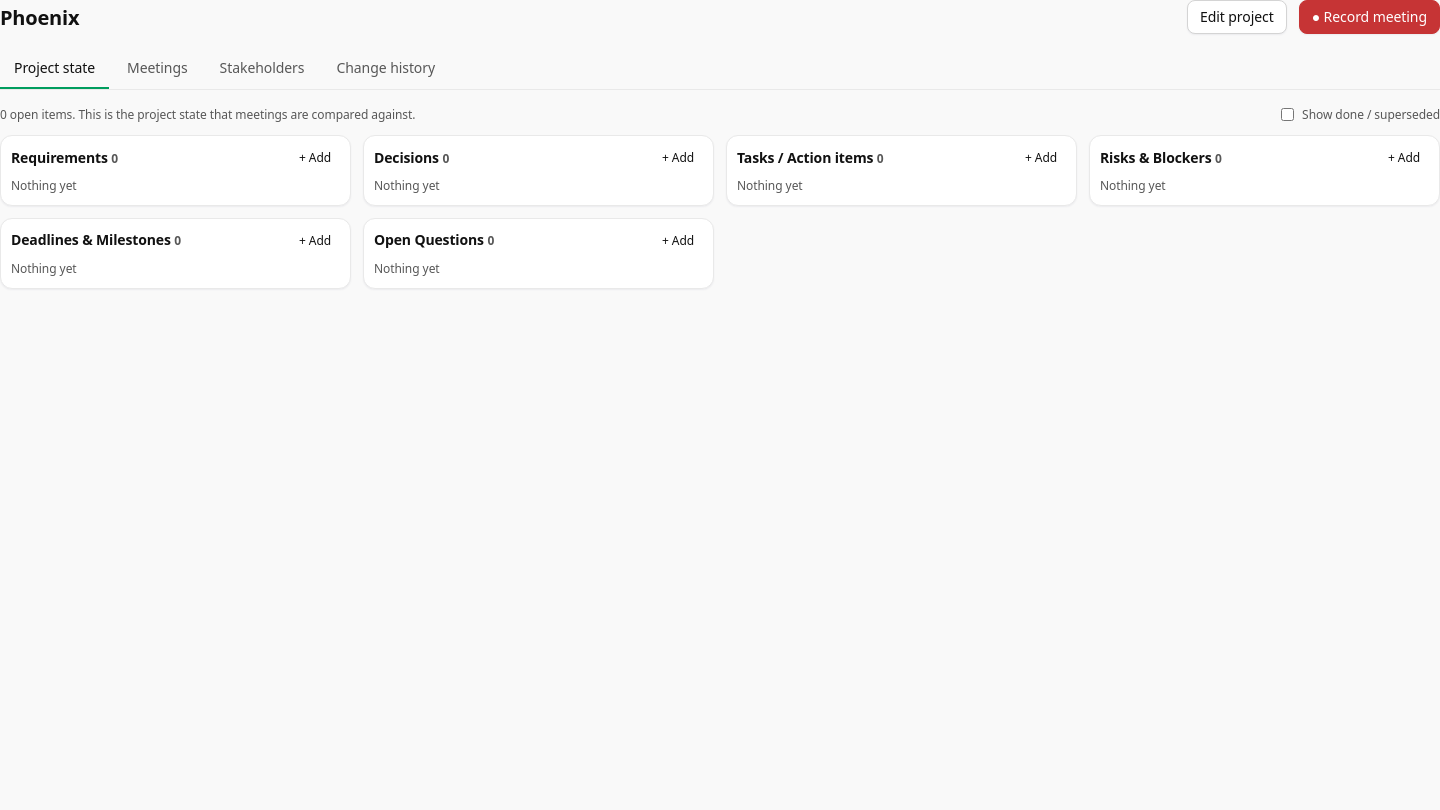
Test case: project page › keeps a pasted transcript when importing it fails
Click the button "Meetings" at (157, 69), box [113,50,202,89]
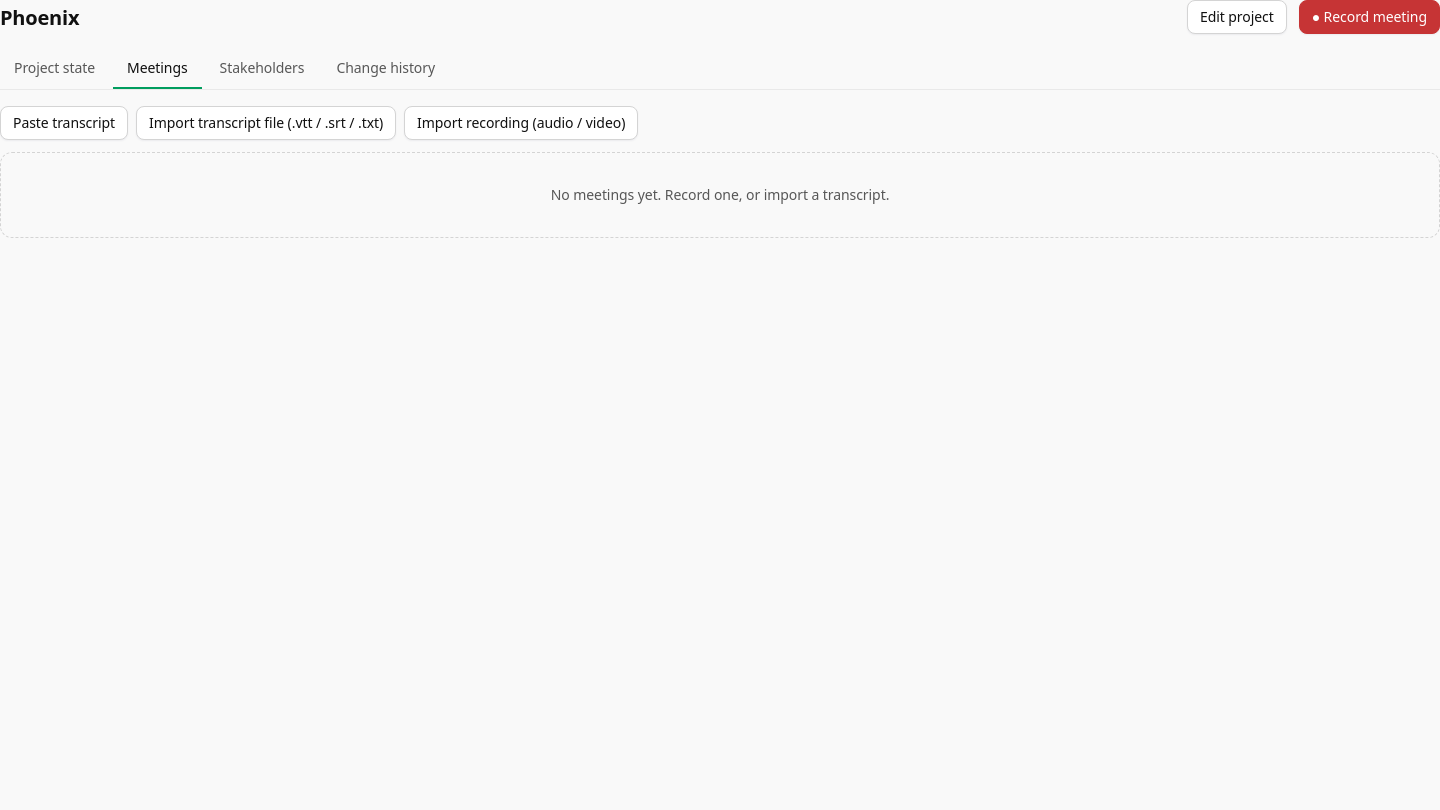
Click the button "Paste transcript" at (64, 123), box [0,106,128,140]
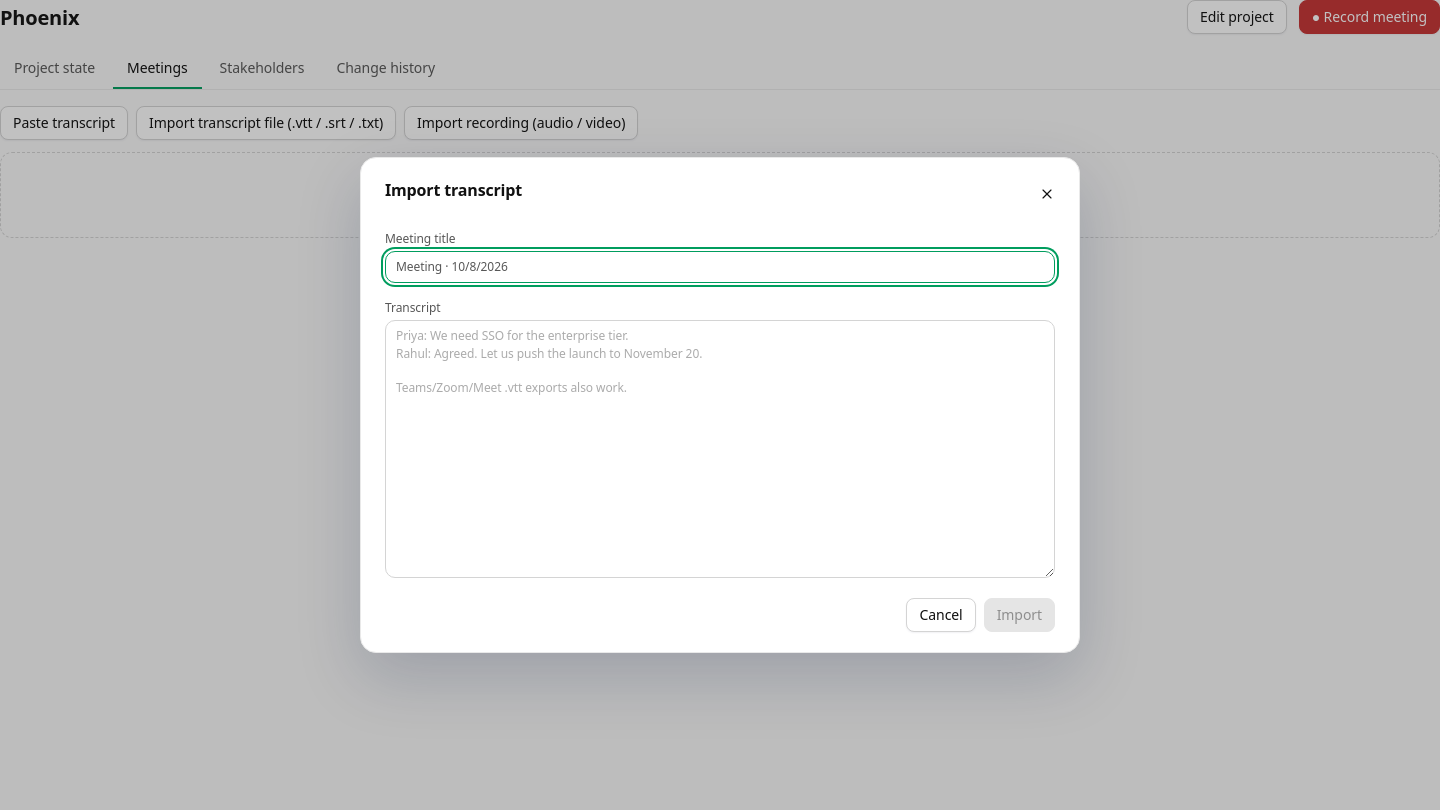
Replace the text in the text box with placeholder "Priya:" with "just some notes" at (720, 449), box [385,320,1055,578]
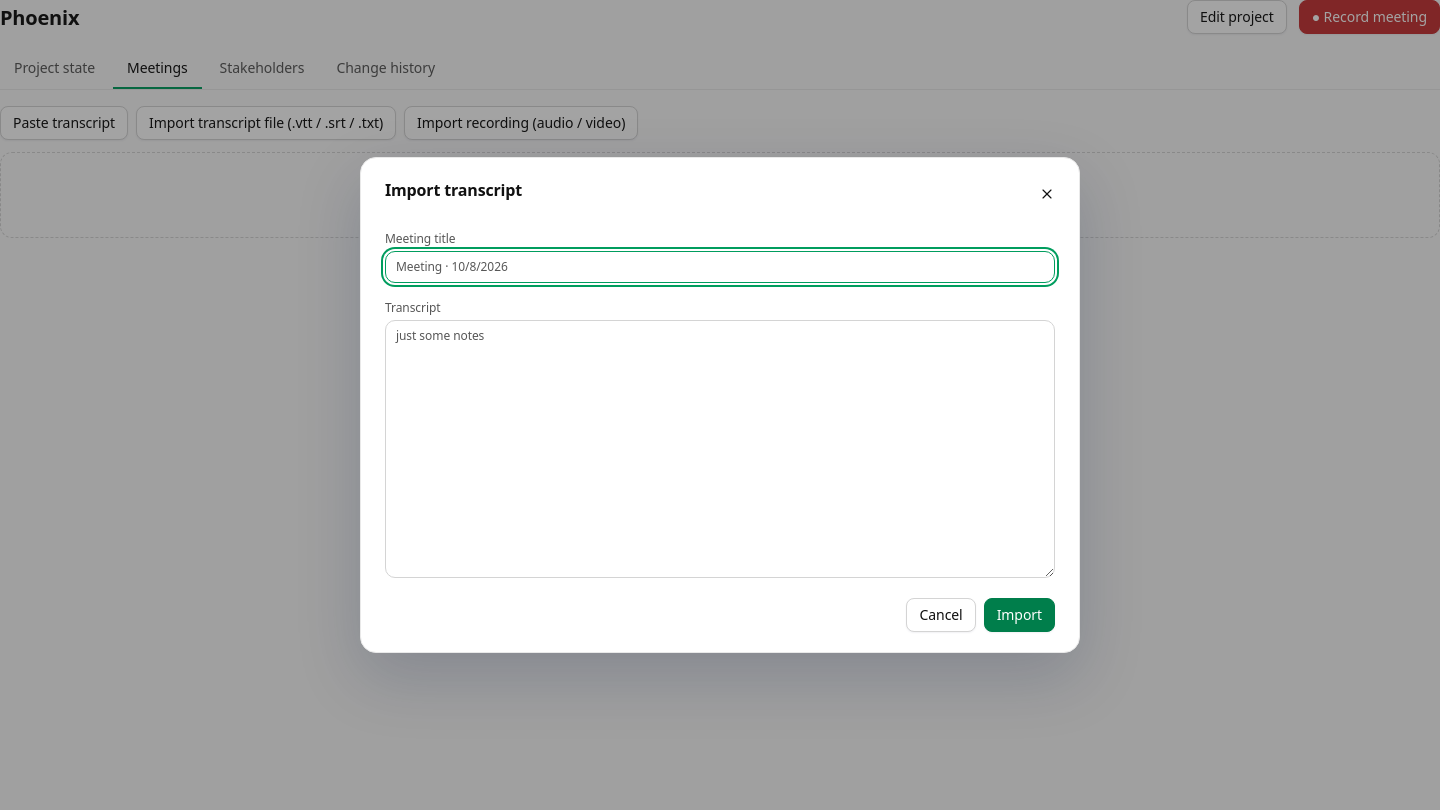
Click the button "Import" at (1019, 615), box [984,598,1055,632]
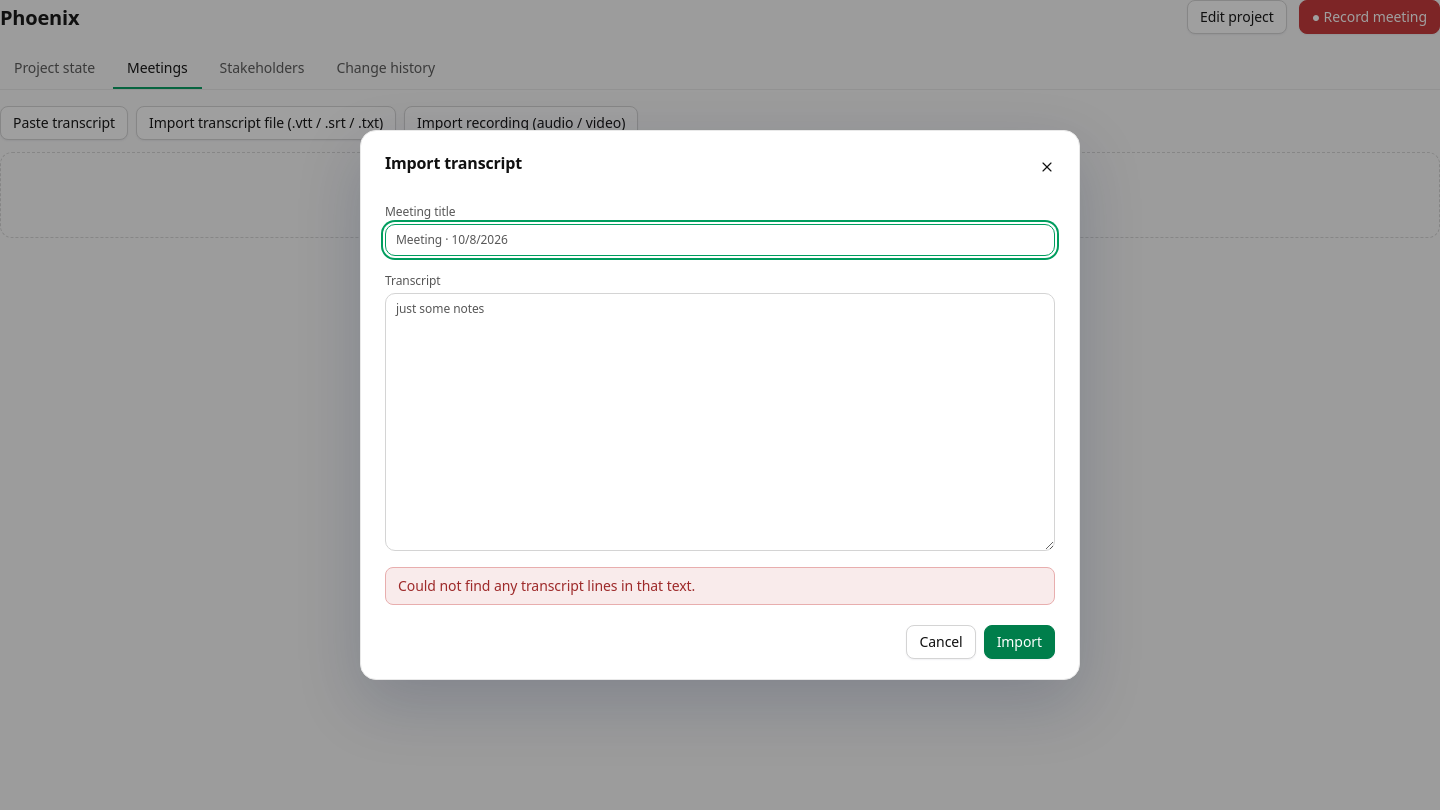
Now the text "Could not find any transcript lines in that text." is shown, box [385,566,1055,605]
